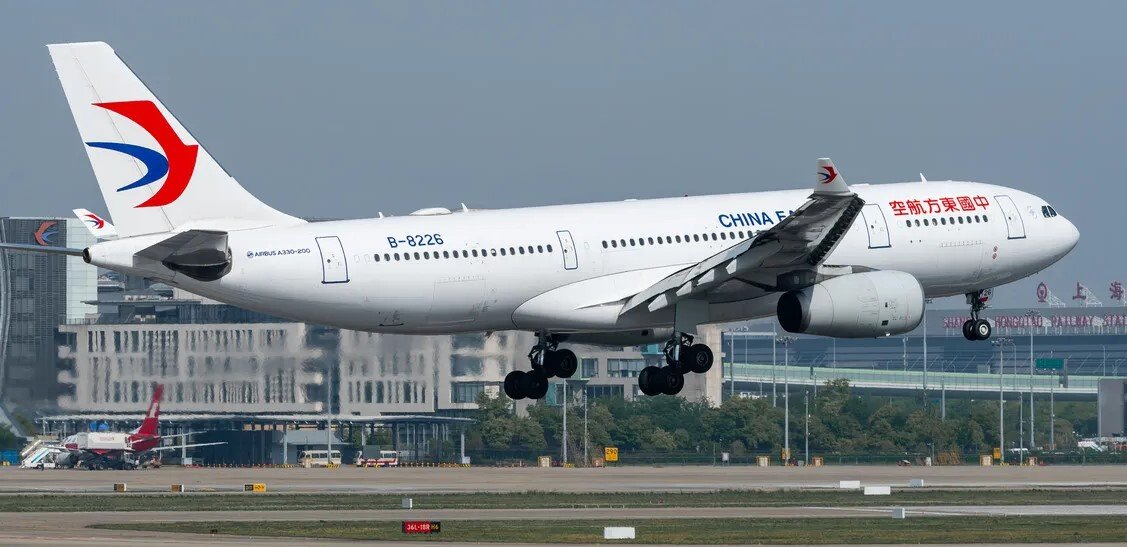plane: (47, 40, 1085, 401), (23, 382, 229, 470)
